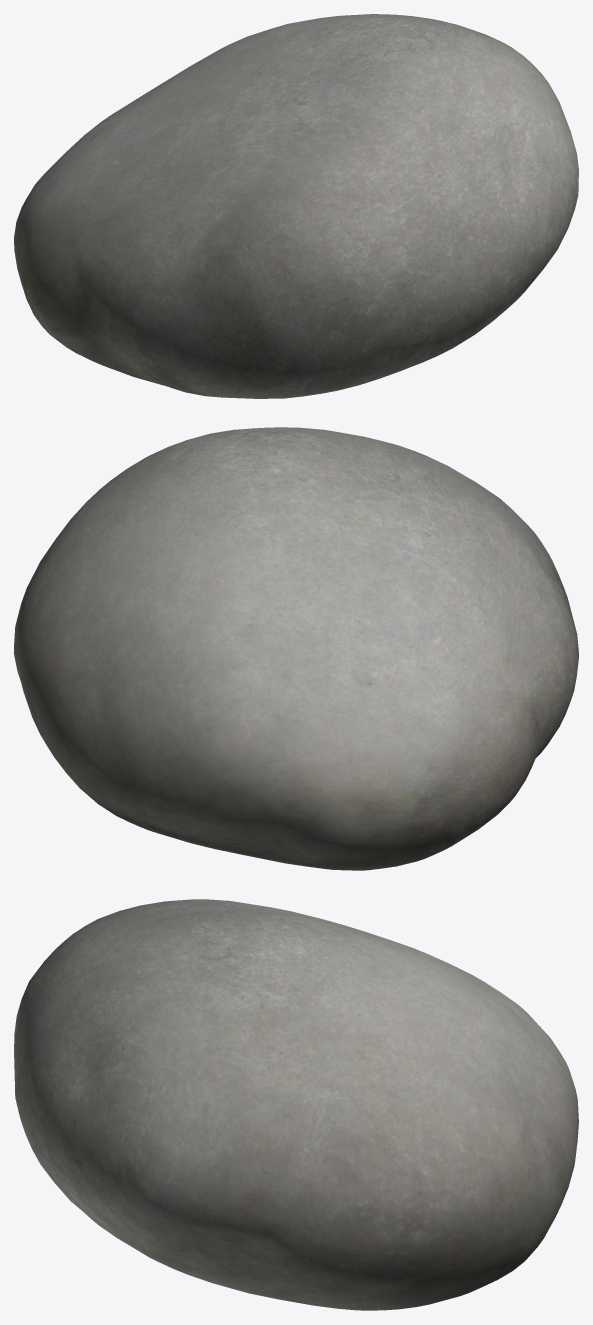
3 renders of one model, top to bottom at view 1: azimuth 30°, elevation 25°; view 2: azimuth 150°, elevation 25°; view 3: azimuth 270°, elevation 25°, orthographic. The views are drawn at different scales.
Visible parts, largest first — view 1: Mesh1; view 2: Mesh1; view 3: Mesh1.
Boxes of the visible parts, x1,y1,x2,y2 form: Mesh1: [14, 14, 578, 398]; Mesh1: [14, 427, 578, 870]; Mesh1: [14, 899, 578, 1310].
Size of the model in its own units: 200 by 131 by 186.
1 material, 1 textured.
